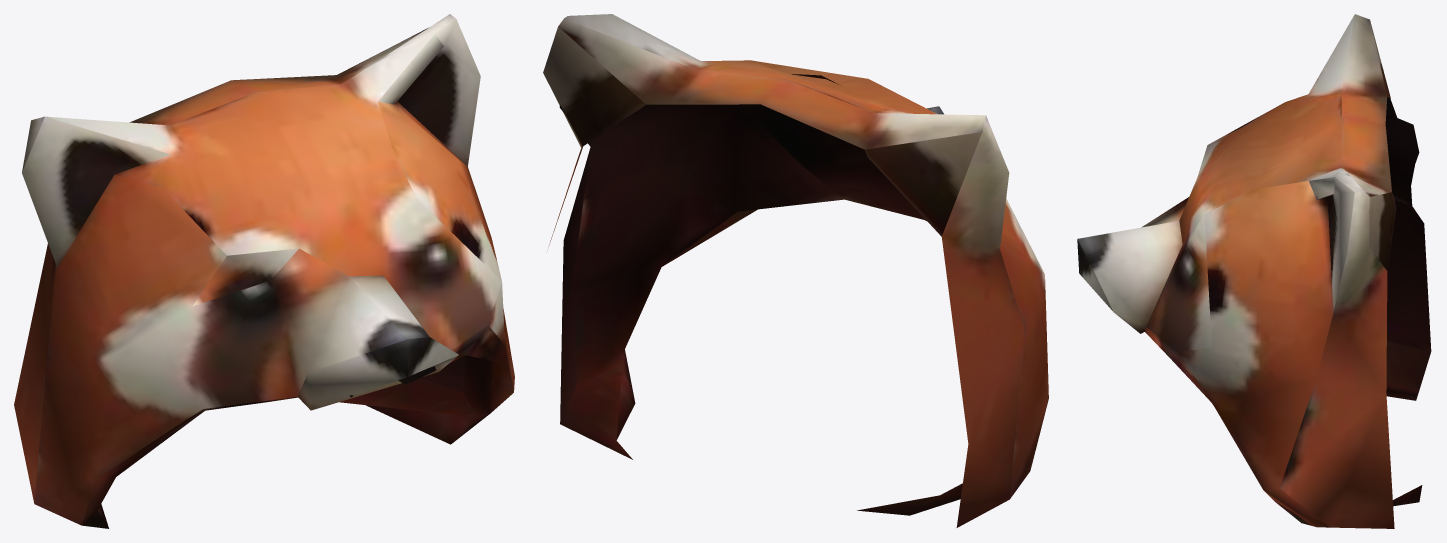
The model's file is red-panda.glb.
The picture shows the model from 3 angles, left to right: view 1: azimuth 30°, elevation 25°; view 2: azimuth 150°, elevation 25°; view 3: azimuth 270°, elevation 25°; orthographic projection. The views are drawn at different scales.
Visible parts, largest first — view 1: geometry_0; view 2: geometry_0; view 3: geometry_0.
Part boxes in pixels (box(x1,y1,x2,y2)): geometry_0: box(14, 14, 514, 528); geometry_0: box(543, 14, 1048, 527); geometry_0: box(1077, 14, 1431, 528).
Size of the model in its own units: 0.5343 by 0.453 by 0.4126.
Materials: 1 (1 with a texture image).
